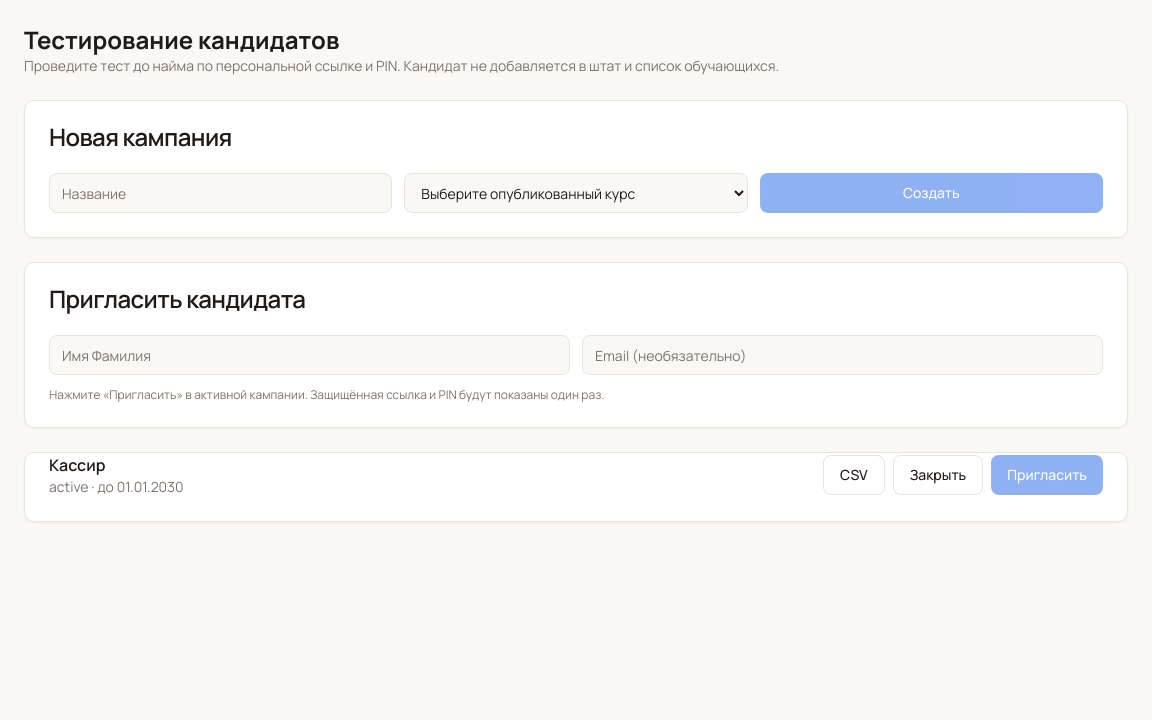
Test: candidate assessments manager page › uses a released course selector and permits manual name-only invitation
The image size is (1152, 720).
Type "Алия Садыкова" into the field named "Имя кандидата" at (310, 355), box x1=49 y1=335 x2=570 y2=375
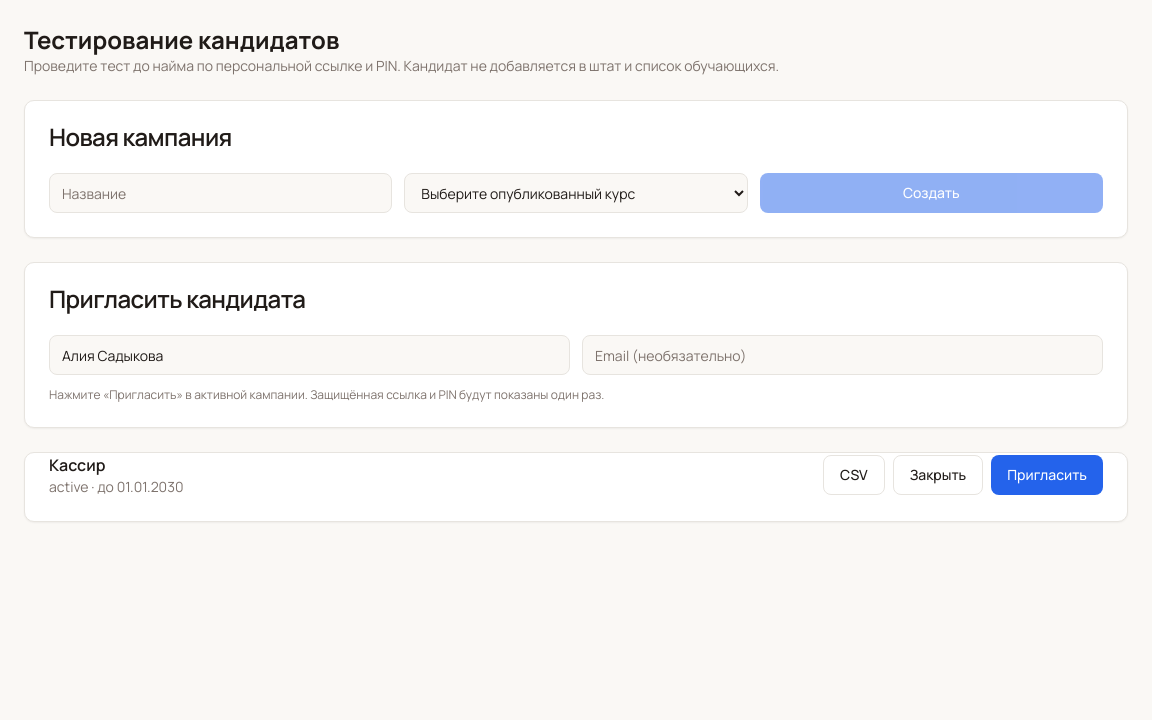
Click the button "Пригласить" at (1047, 475), box x1=991 y1=455 x2=1103 y2=495
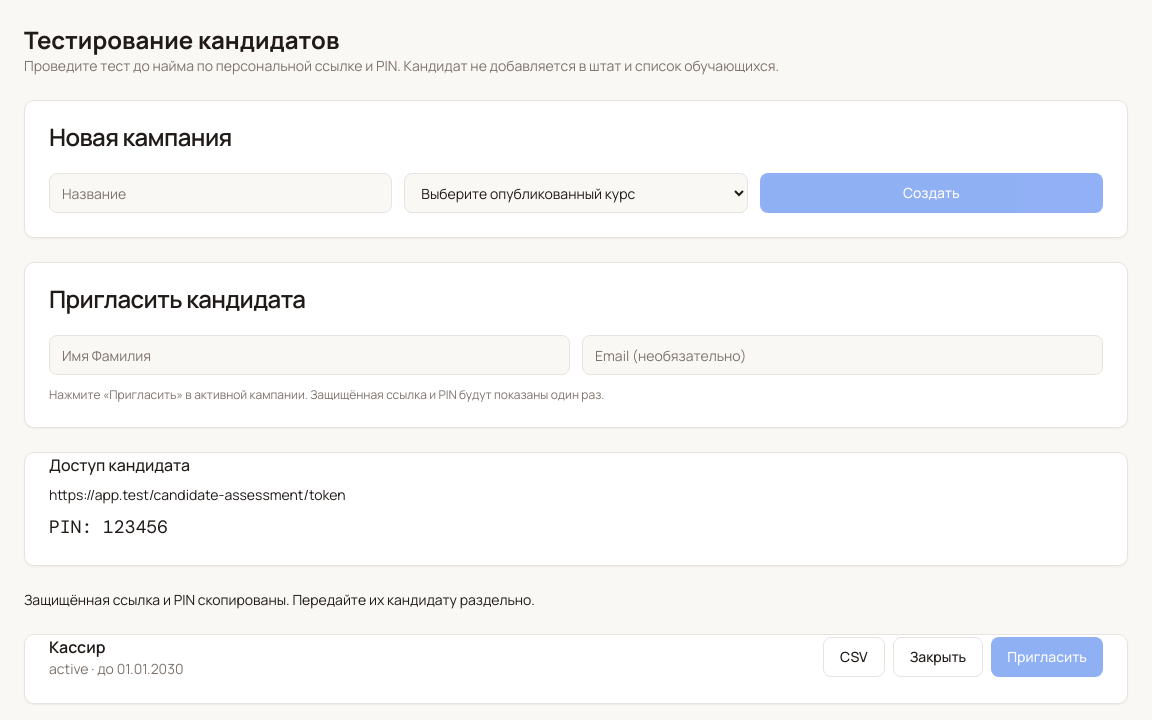
Expected: the text "PIN: 123456" is shown, x1=49 y1=515 x2=168 y2=539
